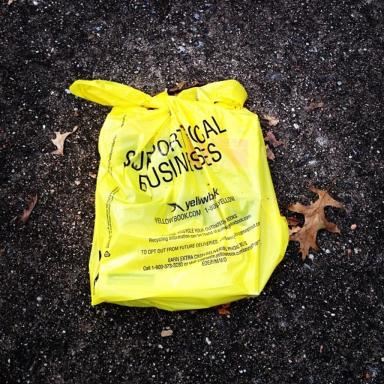plasticbag: (70, 75, 290, 311)
